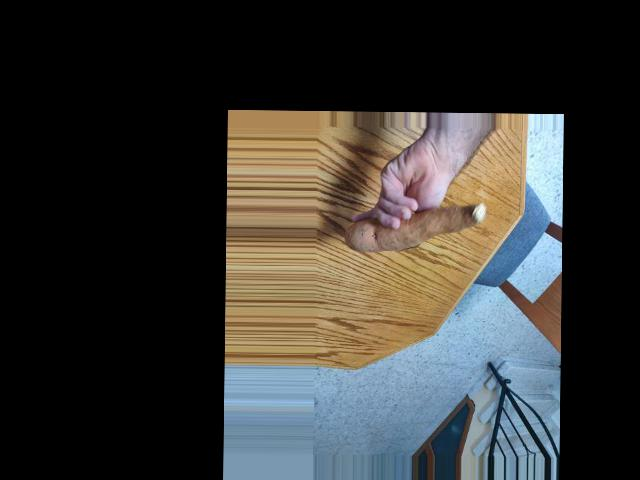sweet_potato: (350, 196, 479, 260)
